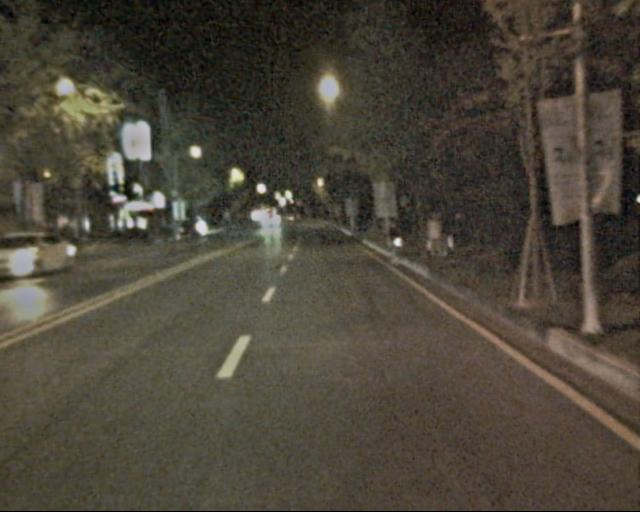person: (385, 218, 403, 263), (425, 213, 443, 256), (434, 211, 452, 253)
